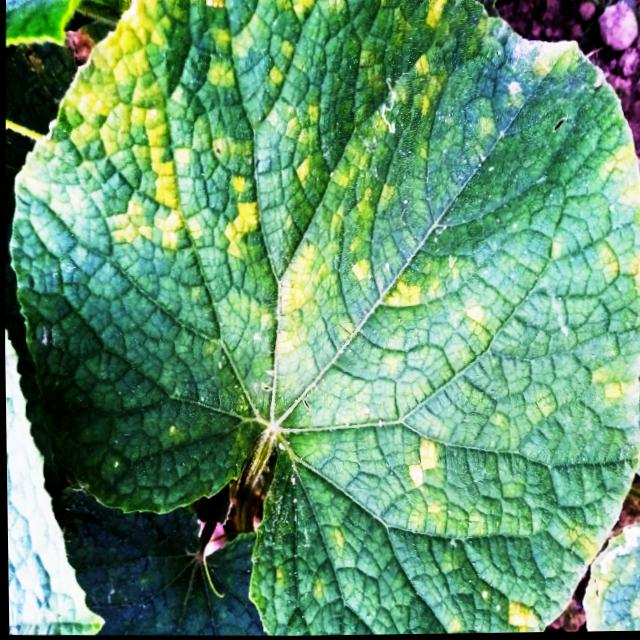Downy-Mildew: (12, 2, 640, 634)
